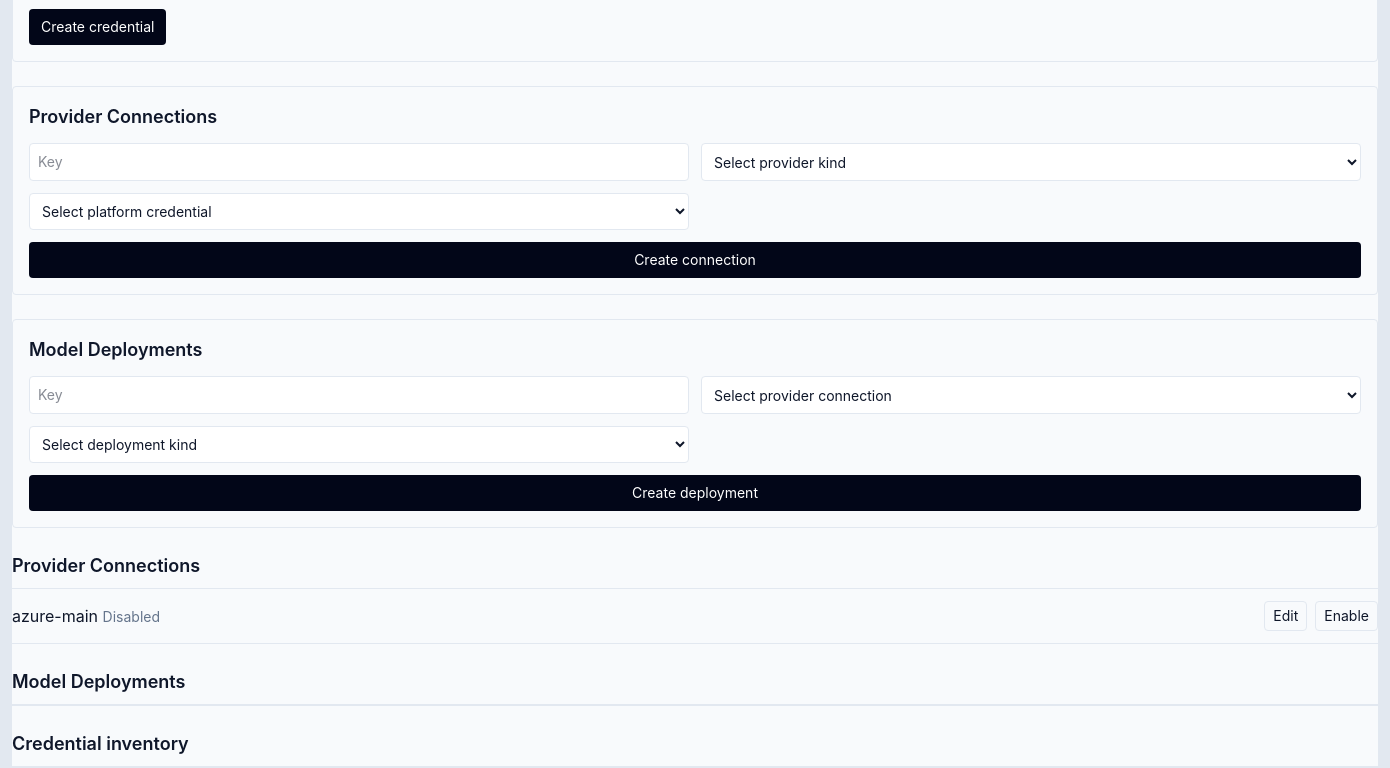
Test: Admin Web Slice B provider provisioning › enables a disabled connection with its current ETag and refetches state
(page scrolled)
Click the button "Enable".
click(1347, 616)  # box [1315, 601, 1378, 631]
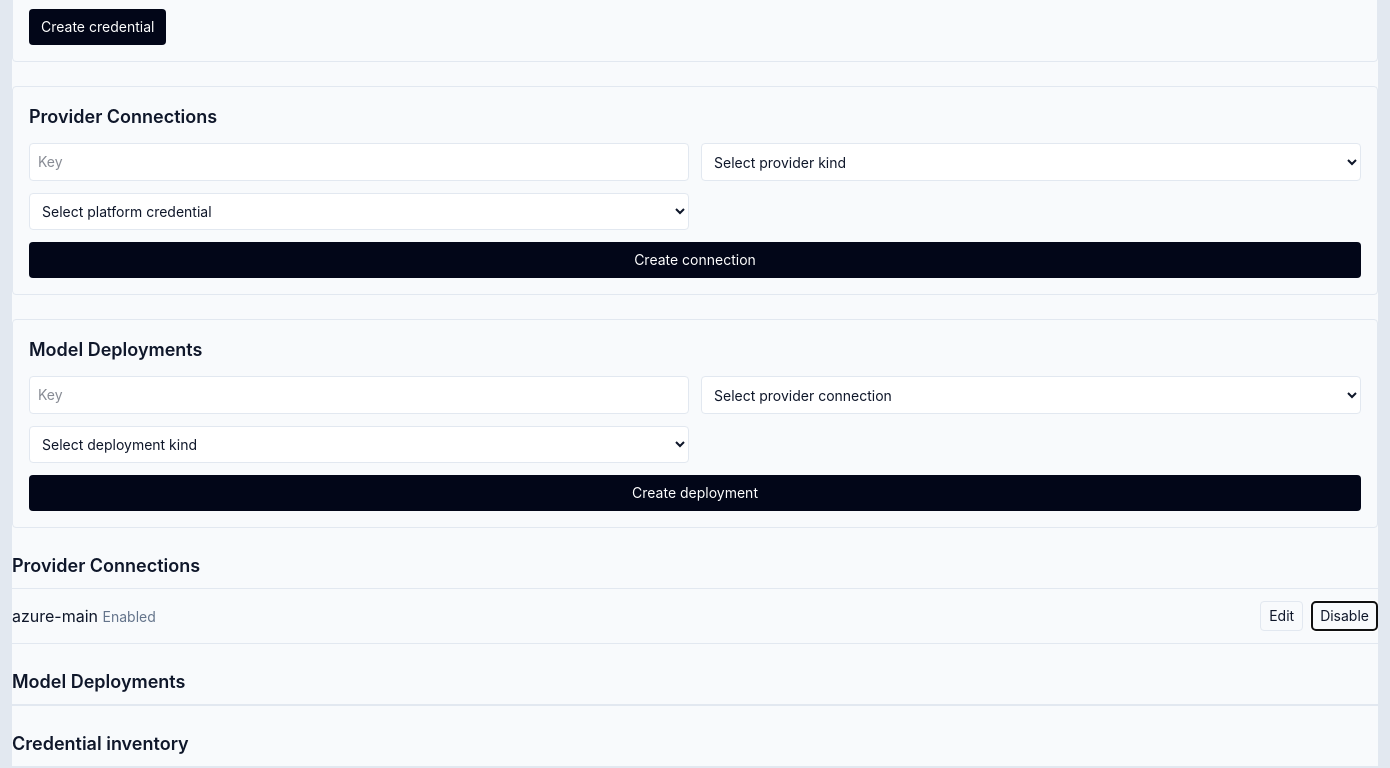
Expected: the text "Enabled" is shown, [103, 608, 156, 625]
